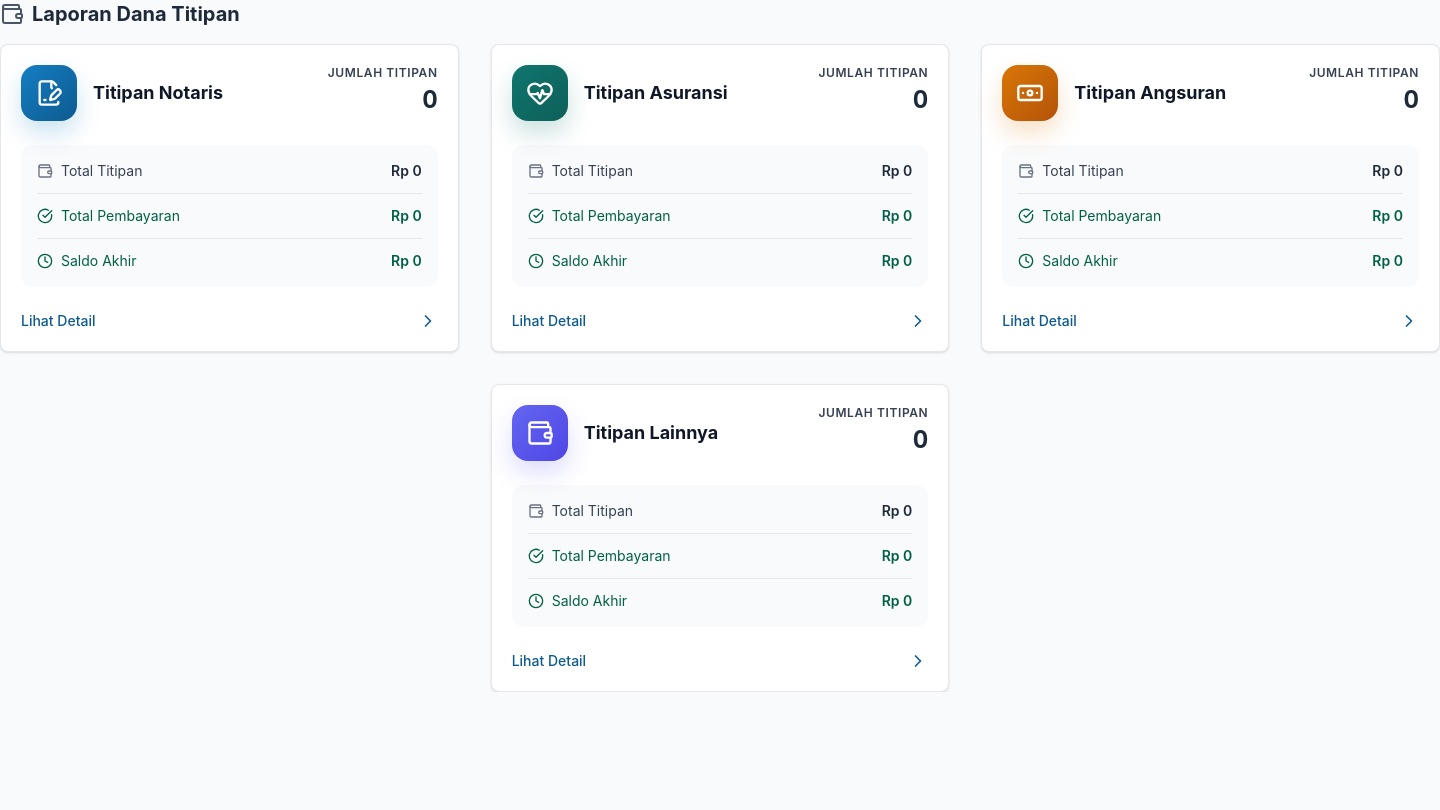
Test: LaporanTitipanSection › menampilkan empty state tanpa header tabel maupun area scroll saat tidak ada record
The image size is (1440, 810).
Click the button titled "Lihat Titipan Asuransi".
click(720, 198)  # box left=491, top=44, right=949, bottom=352
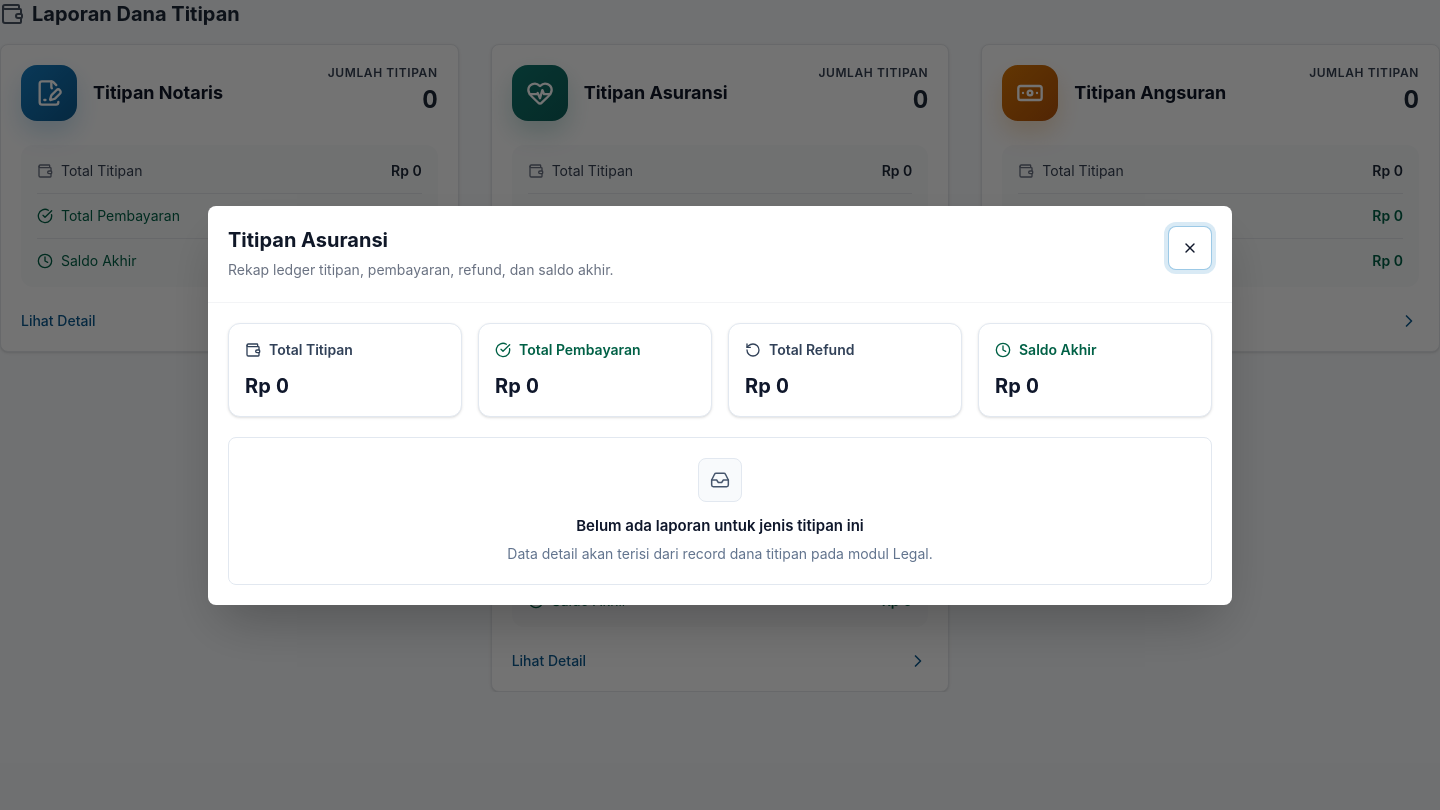
Now the text "Belum ada laporan untuk jenis titipan ini" is shown, box left=576, top=516, right=864, bottom=534
